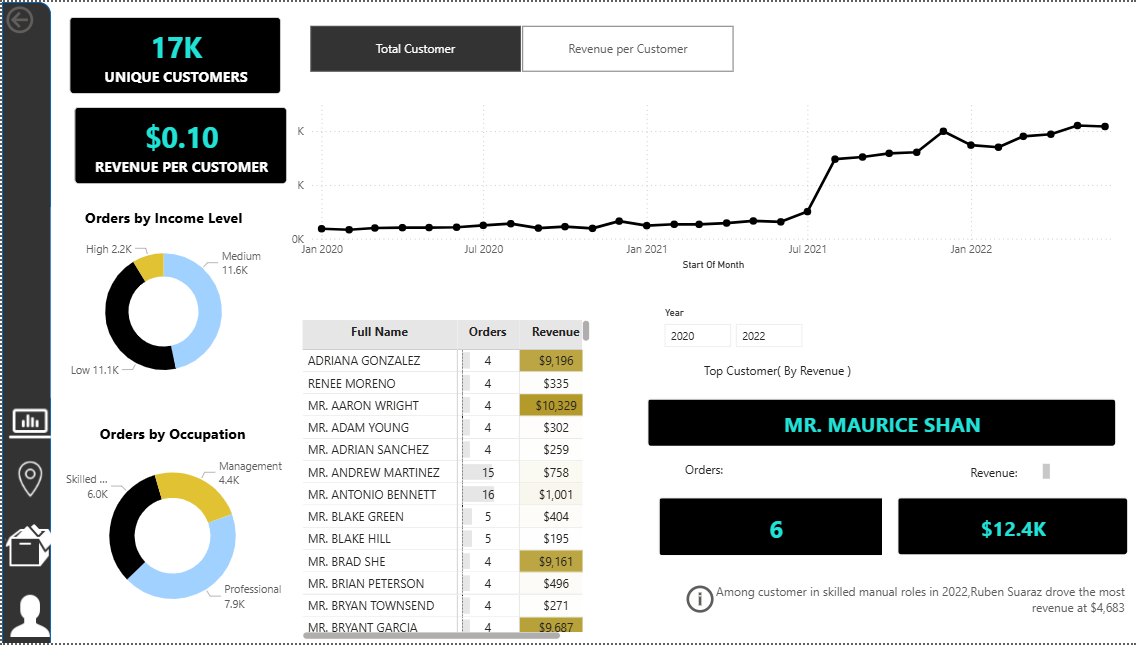

The dashboard page shown, as its layout file describes it:
{"tool":"powerbi","page":{"name":"Customers Detail","canvas":[1280,720],"ordinal":3},"visuals":[{"type":"group","id":"g1","title":"Close Nav","box":[0,0,64.5,720.4],"z":0},{"type":"shape","box":[0,0,54.9,720.4],"z":0,"group":"g1"},{"type":"cardVisual","fields":{"Data":["ALL Measures.Total Customer"]},"box":[59.3,0,271.2,120],"z":1000},{"type":"lineChart","fields":{"Y":["ALL Measures.Total Customer"],"Category":["Calendar Lookup.Start Of Month"]},"box":[320.1,100.8,946.9,204.5],"z":2000},{"type":"slicer","fields":{"Values":["Customer Selection metric.Customer Selection metric"]},"box":[320.1,19.3,524.6,65.2],"z":3000},{"type":"actionButton","box":[2.5,443.2,57.6,57.6],"z":3000,"group":"g1"},{"type":"donutChart","title":"Orders by Income Level","fields":{"Y":["ALL Measures.Total Order"],"Category":["Customer Lookup.Income Level"]},"box":[54.8,229.7,253.4,213.4],"z":4000},{"type":"actionButton","box":[6.6,510.5,49.4,49.4],"z":4000,"group":"g1"},{"type":"donutChart","title":"Orders by Occupation","fields":{"Y":["ALL Measures.Total Order"],"Category":["Customer Lookup.Occupation"]},"box":[59.3,472.7,265.2,231.2],"z":5000},{"type":"actionButton","box":[0,657.3,64.5,63.1],"z":5000,"group":"g1"},{"type":"pivotTable","fields":{"Rows":["Customer Lookup.CustomerKey","Customer Lookup.Full Name"],"Values":["ALL Measures.Total Order","ALL Measures.Total Revenue"]},"box":[332.5,352,332.5,368.6],"z":6000},{"type":"actionButton","box":[0,580.4,64.5,63.1],"z":6000,"group":"g1"},{"type":"slicer","fields":{"Values":["Calendar Lookup.Year"]},"box":[730.5,336.4,177.8,63.7],"z":7000},{"type":"textbox","box":[610.5,400.1,520.1,28.2],"z":8000},{"type":"cardVisual","fields":{"Data":["Min(Customer Lookup.Full Name)"]},"box":[706.8,428.2,560.1,88.9],"z":9000},{"type":"textbox","box":[730.5,509.7,114.1,31.1],"z":10000},{"type":"cardVisual","fields":{"Data":["ALL Measures.Total Order"]},"box":[718.7,537.9,296.4,100.8],"z":11000},{"type":"cardVisual","fields":{"Data":["ALL Measures.Total Revenue"]},"box":[986.9,538.6,293.4,99.3],"z":12000},{"type":"textbox","box":[1081.7,512.7,99.3,26.7],"z":13000},{"type":"actionButton","box":[763.1,644.6,500.9,48.9],"z":14000},{"type":"cardVisual","fields":{"Data":["ALL Measures.Average Revenue per Customer"]},"box":[64.7,100.8,272.3,120.4],"z":15000},{"type":"actionButton","box":[0,0,100,40],"z":15001}]}

Visuals, with their boxes on the page's 1280x720 design canvas (x1, y1, x2, y2). These are canvas units, not pixel positions in the 1137x646 screenshot, which may show the page scaled, cropped or inside an application window:
"Close Nav" group: rect(0, 0, 64, 720)
shape: rect(0, 0, 55, 720)
cardVisual - ALL Measures.Total Customer: rect(59, 0, 330, 120)
lineChart - ALL Measures.Total Customer x Calendar Lookup.Start Of Month: rect(320, 101, 1267, 305)
slicer - Customer Selection metric.Customer Selection metric: rect(320, 19, 845, 84)
actionButton: rect(2, 443, 60, 501)
"Orders by Income Level" donutChart: rect(55, 230, 308, 443)
actionButton: rect(7, 510, 56, 560)
"Orders by Occupation" donutChart: rect(59, 473, 324, 704)
actionButton: rect(0, 657, 64, 720)
pivotTable - Customer Lookup.CustomerKey x Customer Lookup.Full Name: rect(332, 352, 665, 721)
actionButton: rect(0, 580, 64, 644)
slicer - Calendar Lookup.Year: rect(730, 336, 908, 400)
textbox: rect(610, 400, 1131, 428)
cardVisual - Min(Customer Lookup.Full Name): rect(707, 428, 1267, 517)
textbox: rect(730, 510, 845, 541)
cardVisual - ALL Measures.Total Order: rect(719, 538, 1015, 639)
cardVisual - ALL Measures.Total Revenue: rect(987, 539, 1280, 638)
textbox: rect(1082, 513, 1181, 539)
actionButton: rect(763, 645, 1264, 694)
cardVisual - ALL Measures.Average Revenue per Customer: rect(65, 101, 337, 221)
actionButton: rect(0, 0, 100, 40)
